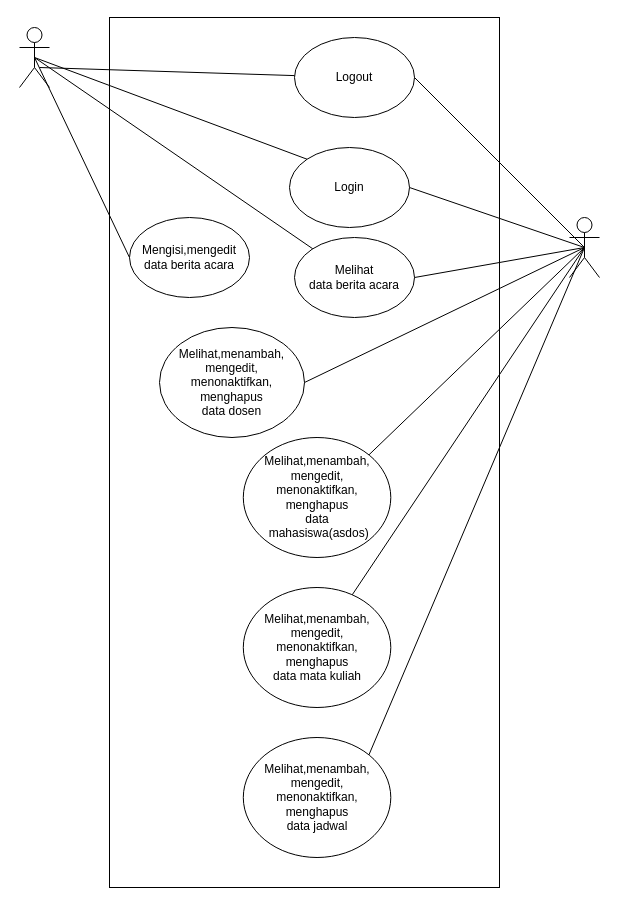
This 619x905 diagram has some shape labels left out. The centre of each missing label's shape, as x and y in pixels:
"Admin" belongs at (584,247).
"Dosen" belongs at (34,57).
